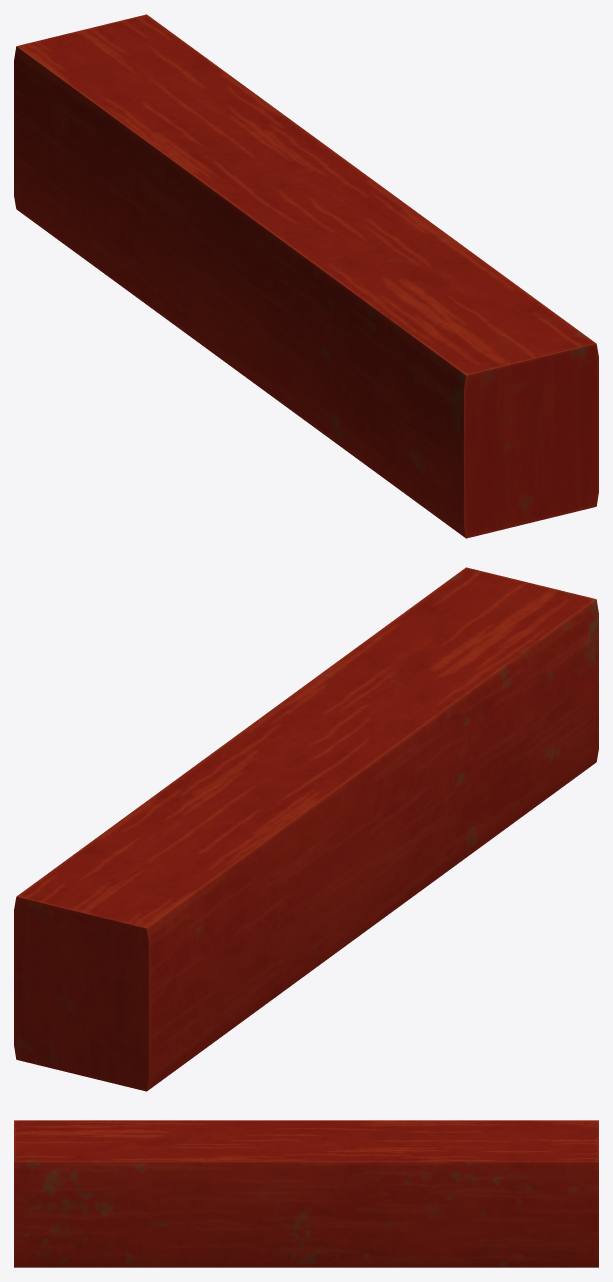
File: SM_Beam.glb
3 views of the same model, one above another, from view 1: azimuth 30°, elevation 25°; view 2: azimuth 150°, elevation 25°; view 3: azimuth 270°, elevation 25° (orthographic). The views are drawn at different scales.
Visible parts, largest first — view 1: SM_Beam; view 2: SM_Beam; view 3: SM_Beam.
Boxes of the visible parts, left/top/right/bottom form: SM_Beam: left=14, top=14, right=598, bottom=538; SM_Beam: left=14, top=567, right=598, bottom=1091; SM_Beam: left=14, top=1120, right=598, bottom=1267.
Bounding box in the file's own units: 0.1734 × 0.2 × 1.
Materials: 1 (1 with a texture image).
